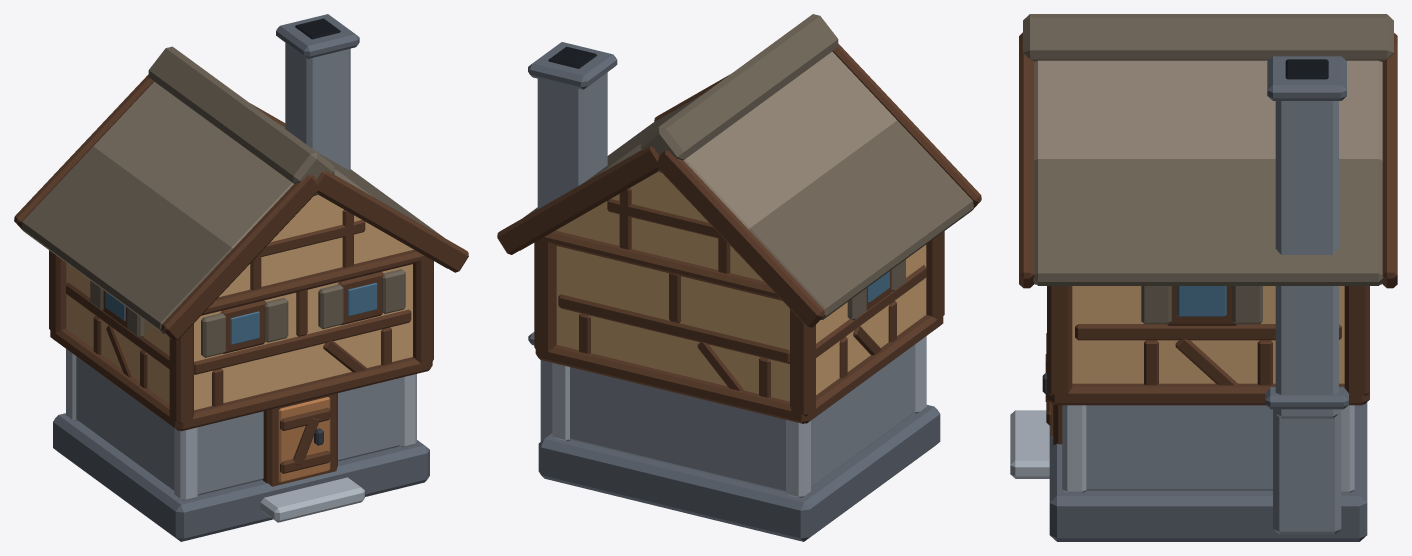
File: Bld_House_Timber_Muted.fbx
3 renders of one model, left to right at view 1: azimuth 30°, elevation 25°; view 2: azimuth 150°, elevation 25°; view 3: azimuth 270°, elevation 25°, orthographic. The views are drawn at different scales.
Parts seen in each view (by area): view 1: Bld_House_Timber_Muted.001; view 2: Bld_House_Timber_Muted.001; view 3: Bld_House_Timber_Muted.001.
Boxes of the visible parts, x1=… form: Bld_House_Timber_Muted.001: x1=14, y1=14, x2=468, y2=541; Bld_House_Timber_Muted.001: x1=497, y1=14, x2=981, y2=541; Bld_House_Timber_Muted.001: x1=1010, y1=14, x2=1397, y2=541.
Size of the model in its own units: 3.43 by 4.11 by 3.06.
